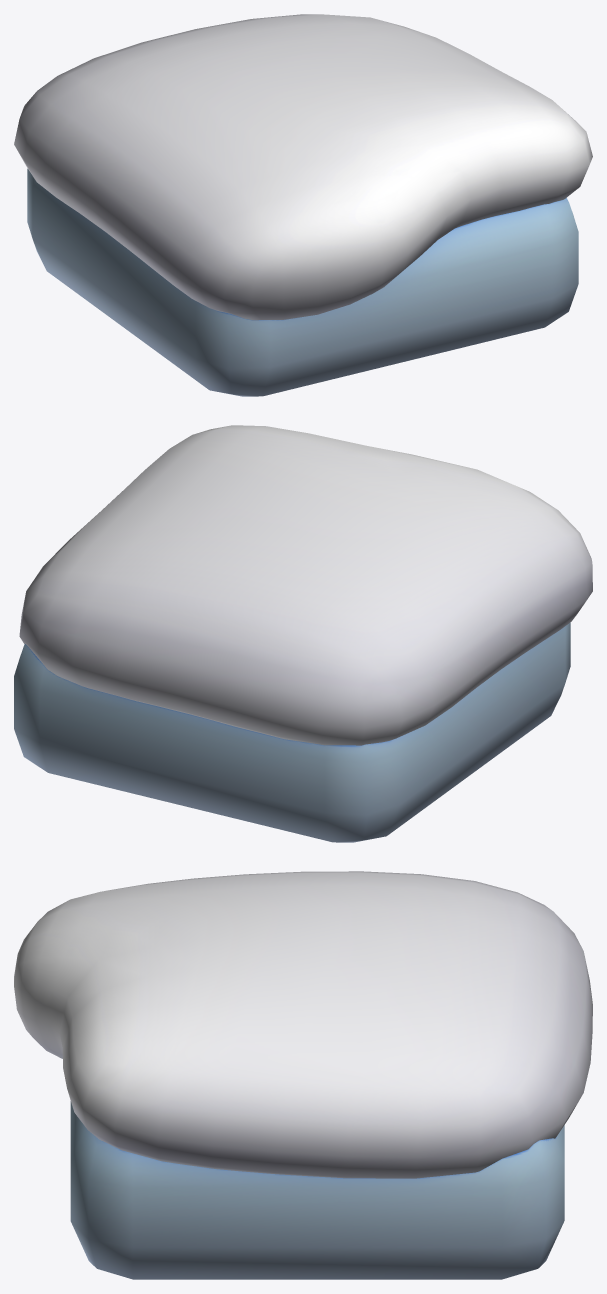
File: Platform.glb
3 views of the same model, one above another, from view 1: azimuth 30°, elevation 25°; view 2: azimuth 150°, elevation 25°; view 3: azimuth 270°, elevation 25° (orthographic). The views are drawn at different scales.
Visible parts, largest first — view 1: Cube.015; view 2: Cube.015; view 3: Cube.015.
Boxes of the visible parts, x1,y1,x2,y2 form: Cube.015: (14, 14, 592, 396); Cube.015: (14, 425, 592, 842); Cube.015: (14, 871, 592, 1279).
Bounding box in the file's own units: 0.8491 × 0.4518 × 0.8828.
1 material, 1 textured.
